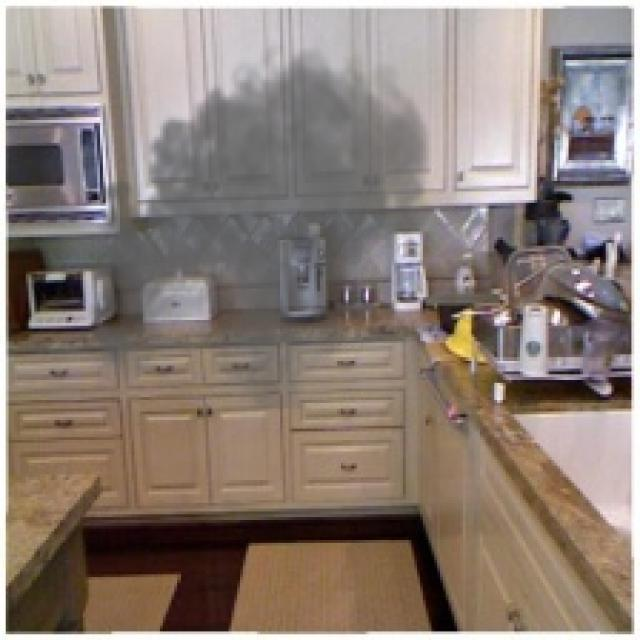Smoke: (77, 31, 437, 408)
